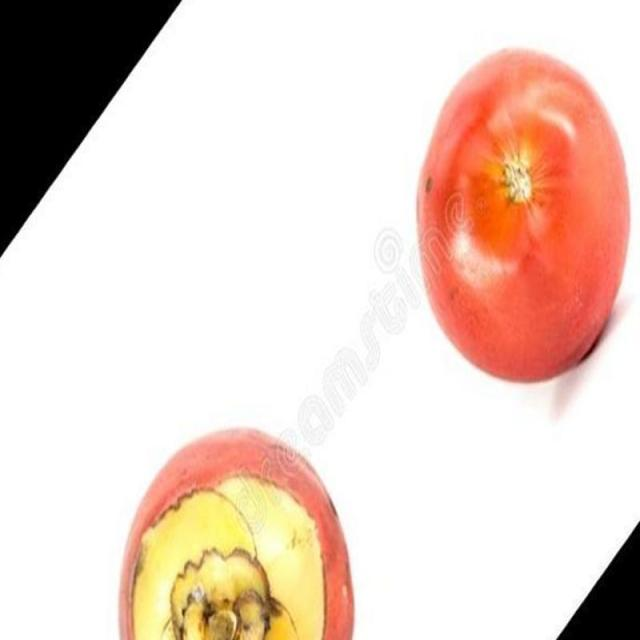good: (417, 44, 634, 388), (118, 427, 356, 639)
